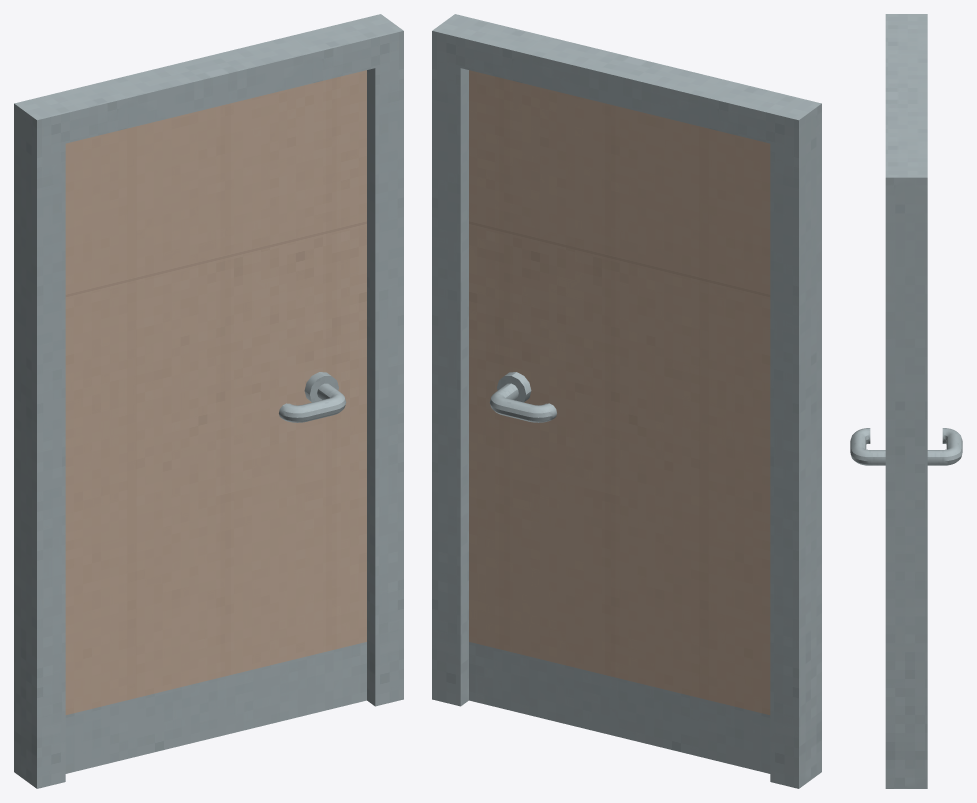
Rendered from DoorType1V1.fbx.
3 views of the same model, side by side, from view 1: azimuth 30°, elevation 25°; view 2: azimuth 150°, elevation 25°; view 3: azimuth 270°, elevation 25° (orthographic). The views are drawn at different scales.
Visible parts, largest first — view 1: Door1.020, DoorType1V1, Cylinder.058; view 2: Door1.020, DoorType1V1, Cylinder.060; view 3: DoorType1V1, Cylinder.058, Cylinder.060.
Boxes of the visible parts, x1=… form: Door1.020: x1=65, y1=70, x2=366, y2=773; DoorType1V1: x1=14, y1=14, x2=403, y2=788; Cylinder.058: x1=279, y1=383, x2=346, y2=422; Door1.020: x1=469, y1=70, x2=770, y2=773; DoorType1V1: x1=432, y1=14, x2=821, y2=788; Cylinder.060: x1=489, y1=383, x2=556, y2=422; DoorType1V1: x1=885, y1=14, x2=927, y2=788; Cylinder.058: x1=850, y1=428, x2=885, y2=465; Cylinder.060: x1=927, y1=428, x2=962, y2=465.
Bounding box in the file's own units: 931 × 1621 × 270.
